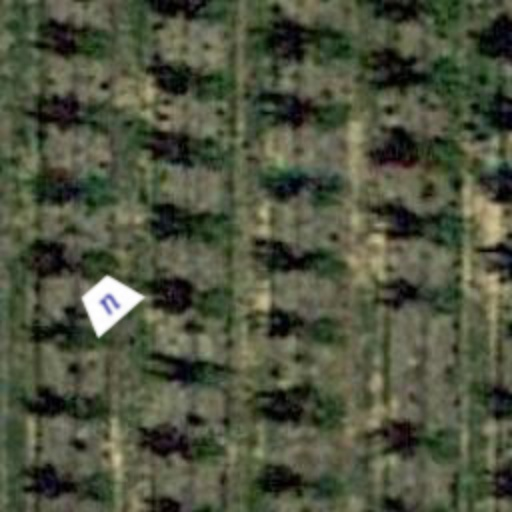trapezoid: (62, 256, 154, 348)
